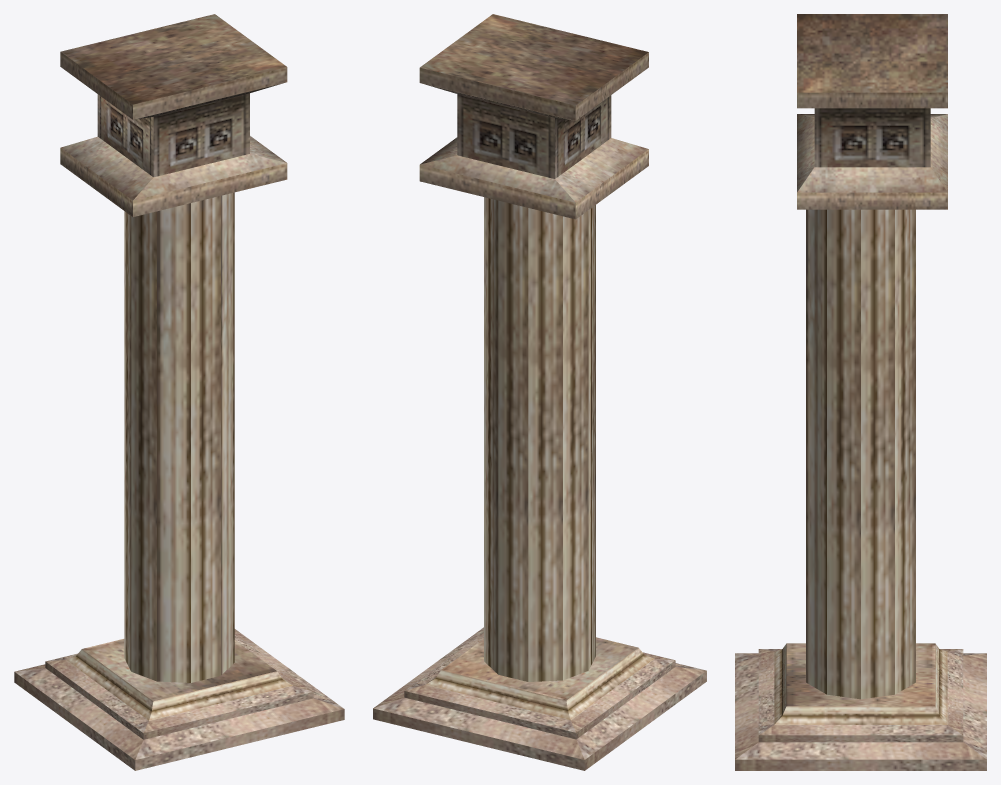
Rendered from pedestal_2.fbx.
The picture shows the model from 3 angles, left to right: view 1: azimuth 30°, elevation 25°; view 2: azimuth 150°, elevation 25°; view 3: azimuth 270°, elevation 25°; orthographic projection. The views are drawn at different scales.
Parts seen in each view (by area): view 1: mesh_0; view 2: mesh_0; view 3: mesh_0.
Boxes of the visible parts, left/top/right/bottom form: mesh_0: left=14, top=14, right=344, bottom=770; mesh_0: left=373, top=14, right=706, bottom=770; mesh_0: left=735, top=14, right=986, bottom=770.
Size of the model in its own units: 43.38 by 126 by 43.38.
Materials: 1 (1 with a texture image).
